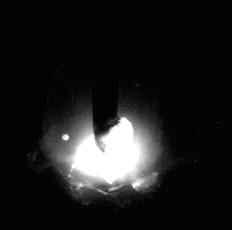arame: (93, 0, 120, 150)
poca: (42, 0, 162, 230)
